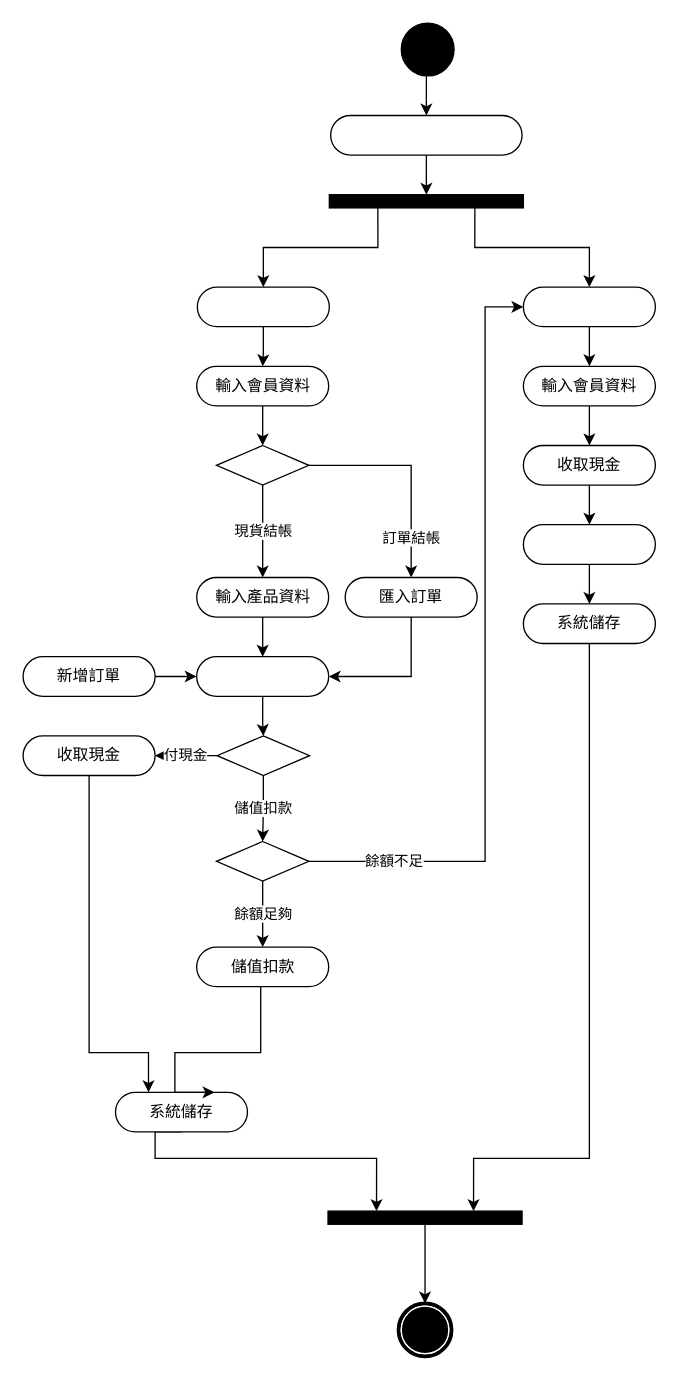
The diagram is 678 pixels wide and 1379 high, and some of its shapes have lost their labels. Here are the shapes that lost their labels. From the top down, the centre of each, then its label:
At (x=425, y=134): "點選銷貨儲值".
At (x=262, y=306): "點選交易結帳".
At (x=588, y=306): "點選會員儲值".
At (x=588, y=543): "輸入儲值金額".
At (x=262, y=675): "詢問付款方式".
